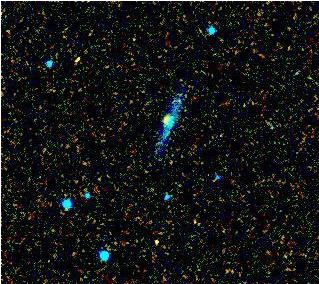star: (152, 105, 182, 135)
